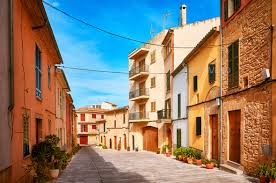strada: (68, 144, 258, 182)
